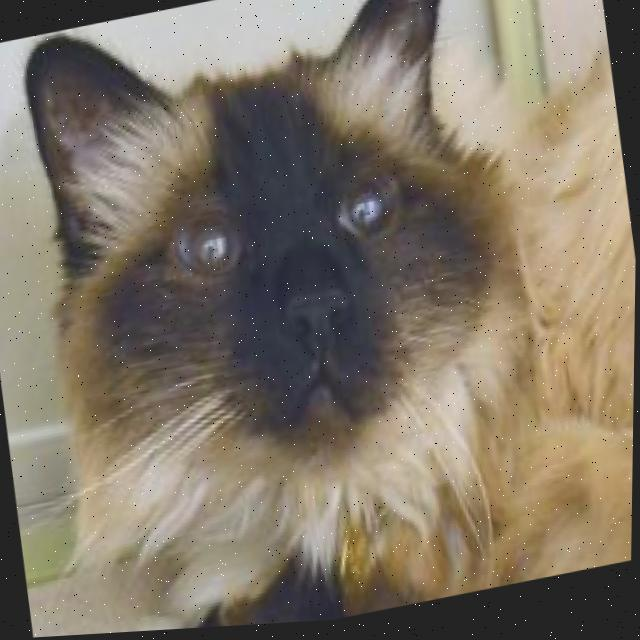Birman: (6, 0, 640, 639)
